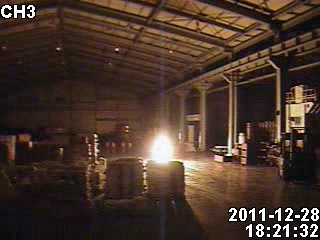fire: (147, 123, 176, 164)
